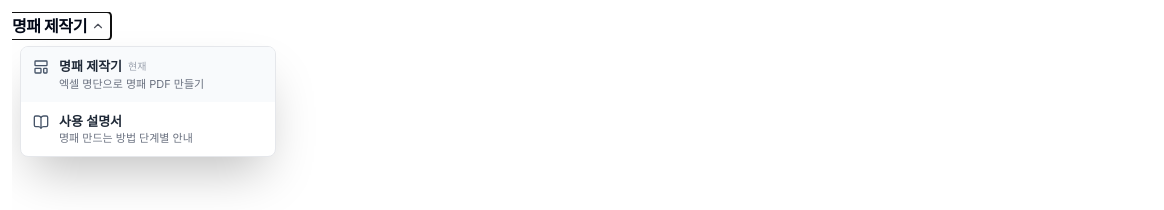
Test case: AppMenu › 바깥을 누르면 닫힌다
The width and height of the screenshot is (1164, 210).
Earlier steps of the test are not shown.
Expected: the menu is shown, left=20, top=46, right=276, bottom=157
Click the element showing "명패 제작기 명패 제작기 현재 엑셀 명단으로 명패 PDF 만들기 사용 설명서 명패 만드는 방법 단계별 안내" at [588, 26], box left=12, top=12, right=1163, bottom=40
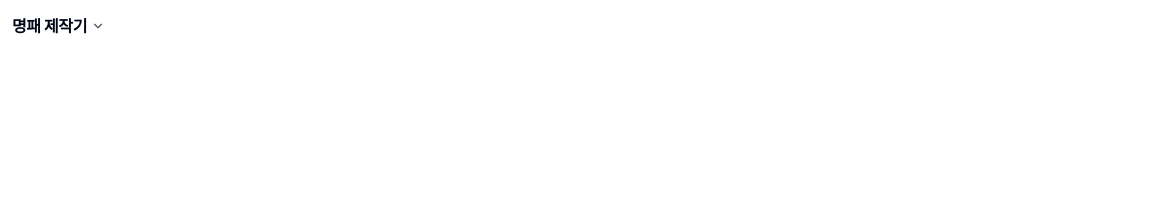
Expected: the menu is gone
